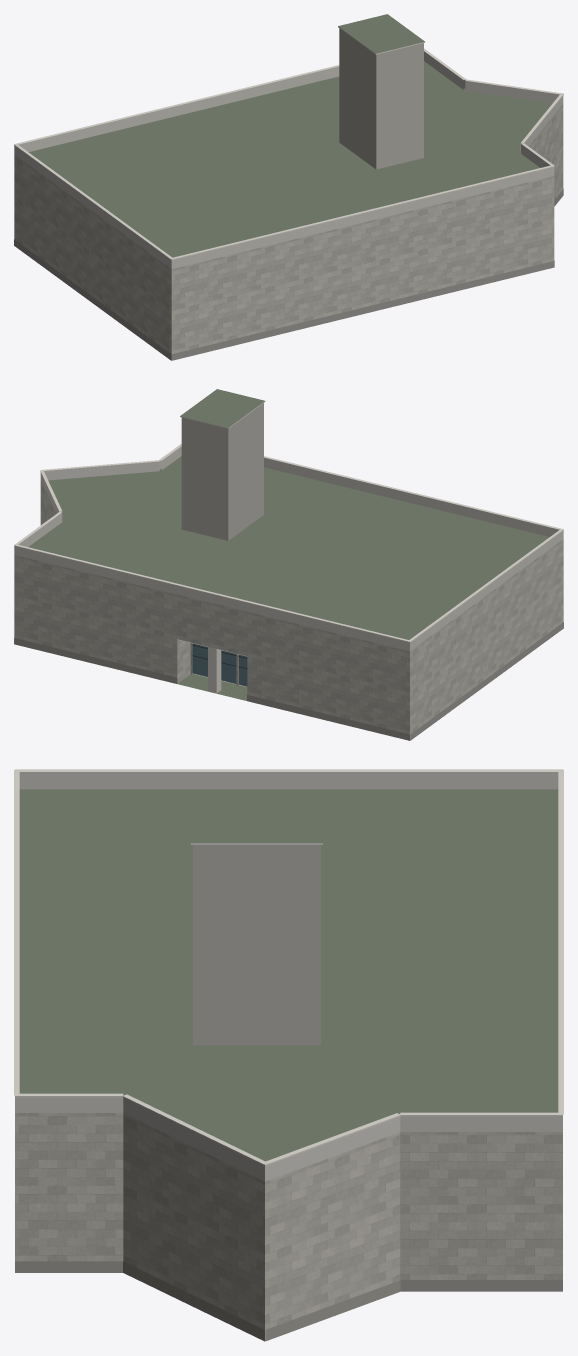
3 views of the same model, one above another, from view 1: azimuth 30°, elevation 25°; view 2: azimuth 150°, elevation 25°; view 3: azimuth 270°, elevation 25° (orthographic). The views are drawn at different scales.
Visible parts, largest first — view 1: museum100__roof, museum100__wall, museum100__parapet, museum100__wall2, museum100__base, museum100__trim; view 2: museum100__roof, museum100__wall, museum100__parapet, museum100__wall2, museum100__base, museum100__trim, museum100__glass, museum100__column; view 3: museum100__roof, museum100__wall, museum100__wall2, museum100__parapet, museum100__trim, museum100__base.
Boxes of the visible parts, x1,y1,x2,y2 form: museum100__roof: (28,14,552,257); museum100__wall: (14,104,563,360); museum100__parapet: (14,51,563,269); museum100__wall2: (339,28,423,169); museum100__base: (14,188,563,360); museum100__trim: (14,26,563,260); museum100__roof: (28,389,549,700); museum100__wall: (14,480,563,740); museum100__parapet: (14,446,563,651); museum100__wall2: (181,403,263,540); museum100__base: (14,622,563,740); museum100__trim: (14,401,563,642); museum100__glass: (192,643,247,686); museum100__column: (208,647,221,693); museum100__roof: (19,789,558,1341); museum100__wall: (15,1113,562,1340); museum100__wall2: (193,845,320,1045); museum100__parapet: (15,772,562,1181); museum100__trim: (14,769,563,1165); museum100__base: (15,1261,562,1341).
Size of the model in its own units: 58.46 by 25.02 by 34.38.
Materials: 10 (1 with a texture image).
